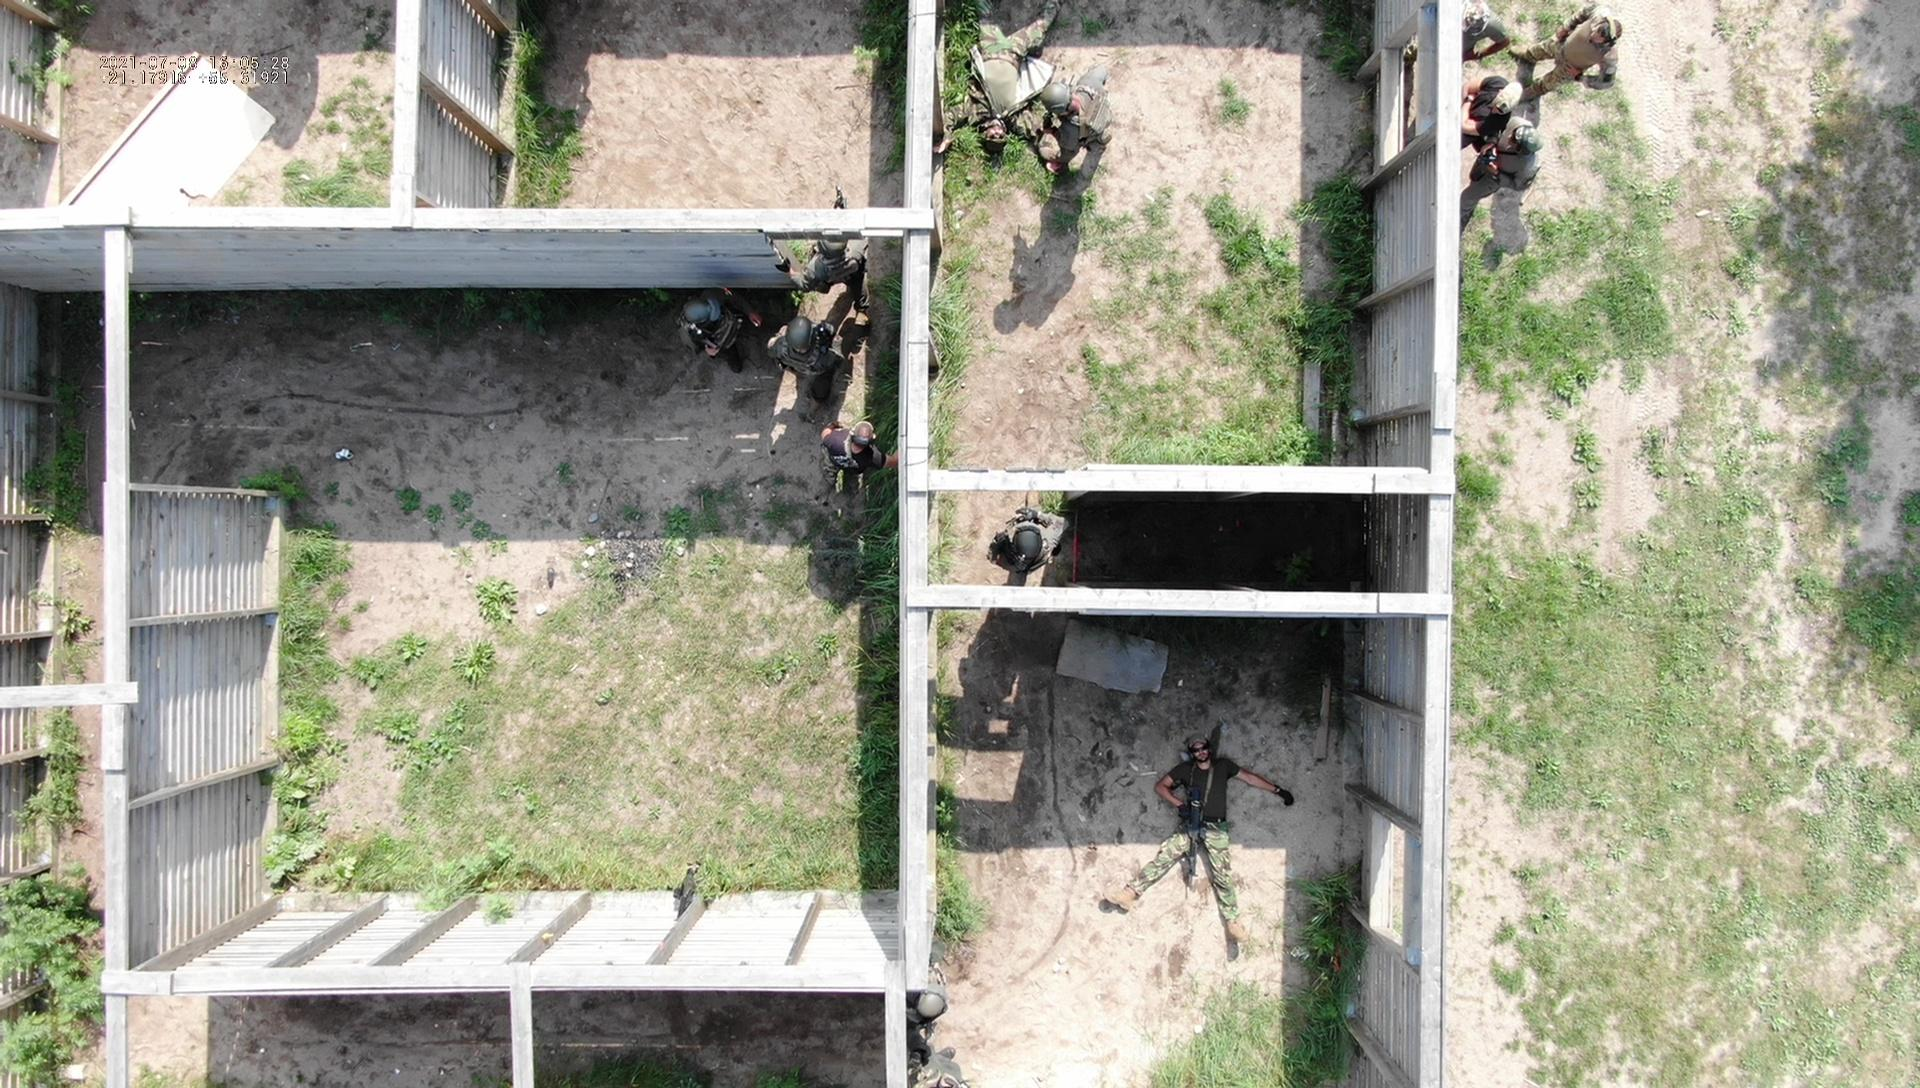Soldier: (1102, 731, 1303, 953), (938, 0, 1062, 171), (1524, 3, 1622, 117), (1023, 66, 1124, 175), (679, 284, 789, 378), (782, 218, 887, 310), (767, 320, 855, 398), (994, 506, 1077, 574)
